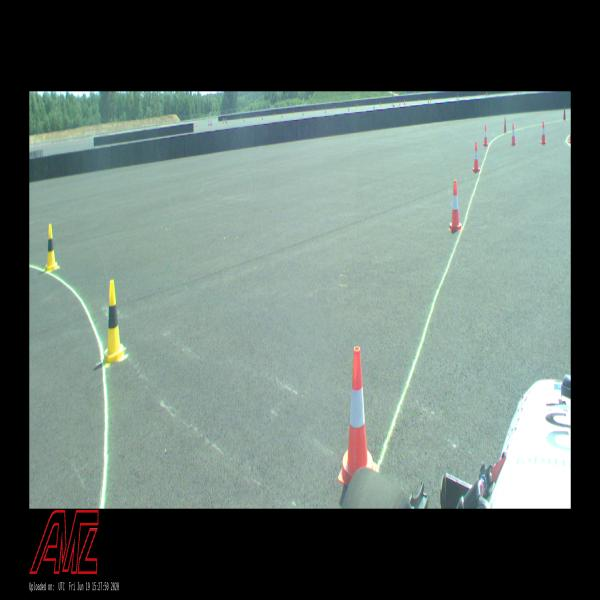orange_cone: (338, 346, 377, 487), (448, 180, 462, 232), (473, 142, 480, 172), (510, 122, 516, 146), (540, 121, 546, 144), (483, 125, 489, 146)
yellow_cone: (103, 280, 124, 366), (45, 224, 58, 271)
